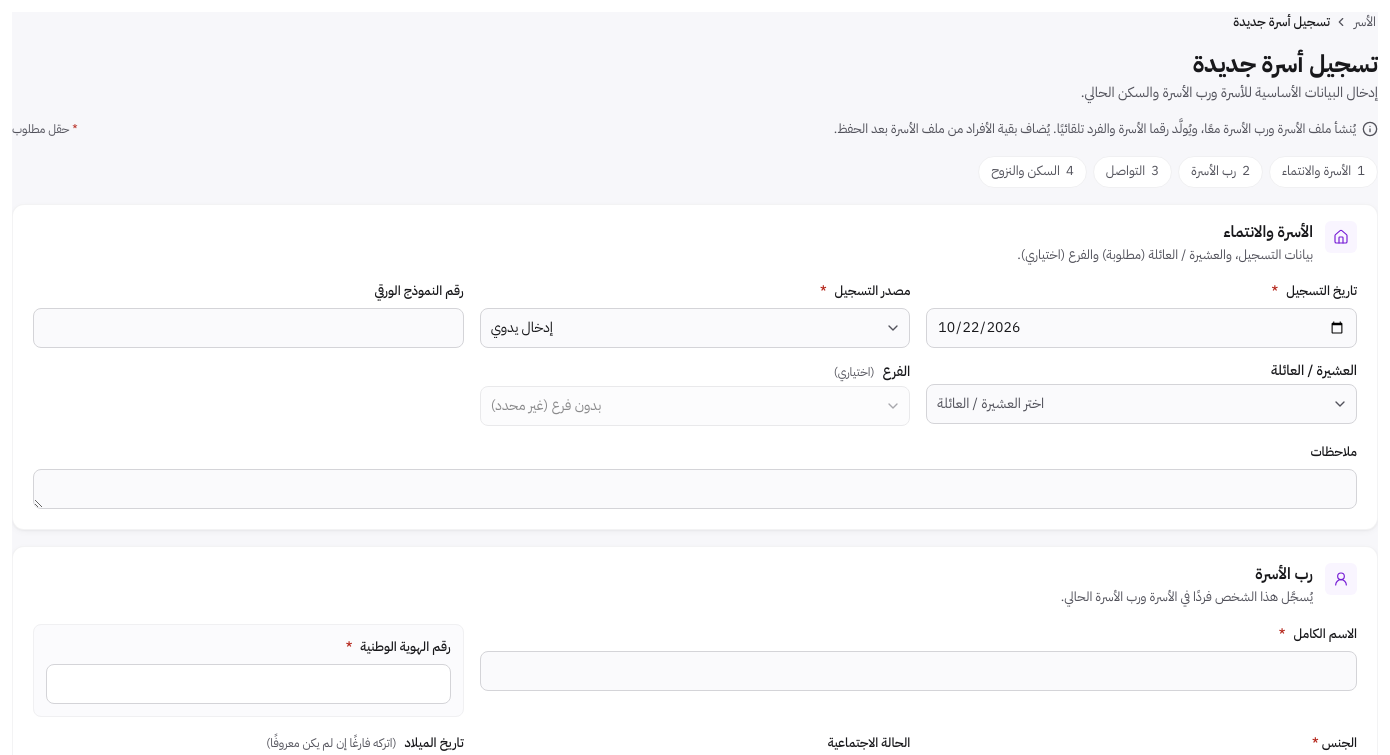
Test: Staff family registration › reports an invalid value locally and never sends it to the pre-check
The width and height of the screenshot is (1390, 755).
Type "40123456" into the field labelled "رقم الهوية الوطنية *" at (248, 684), box [46, 664, 451, 704]
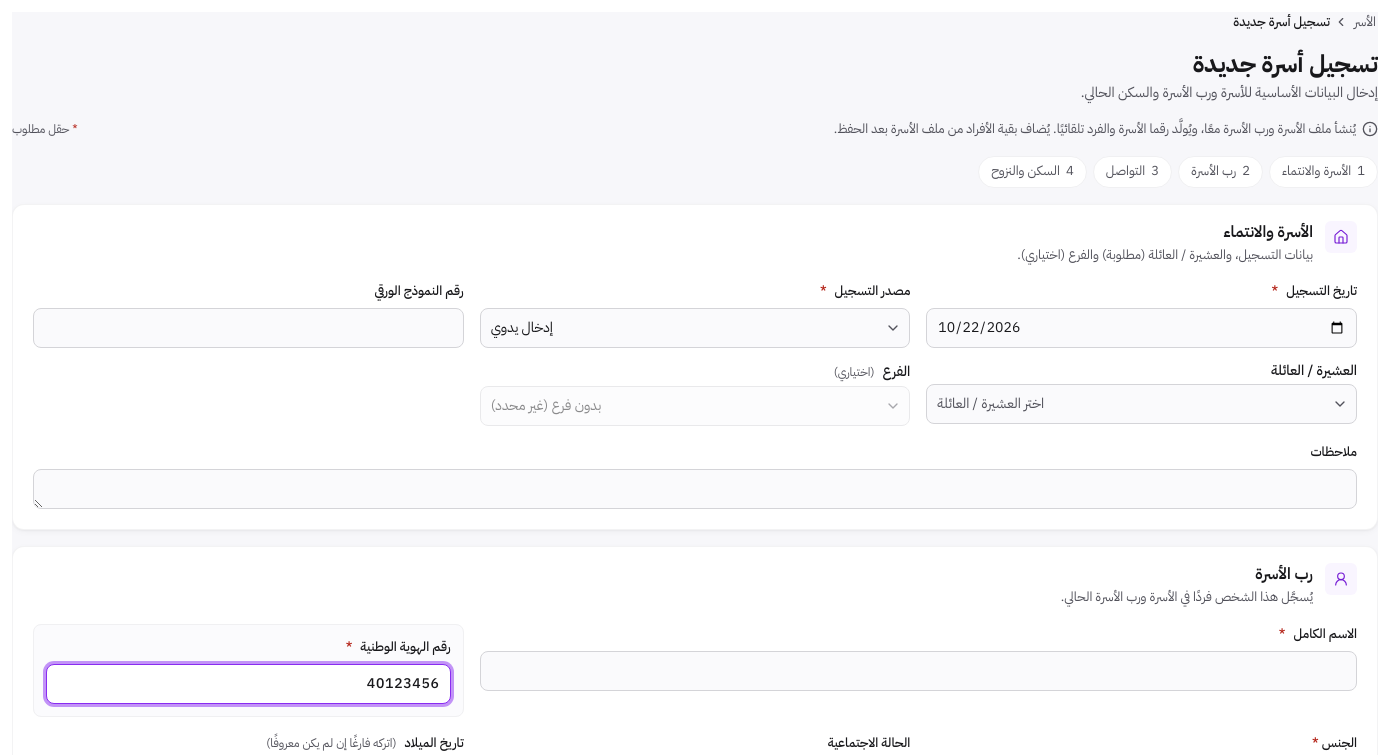
Press Tab
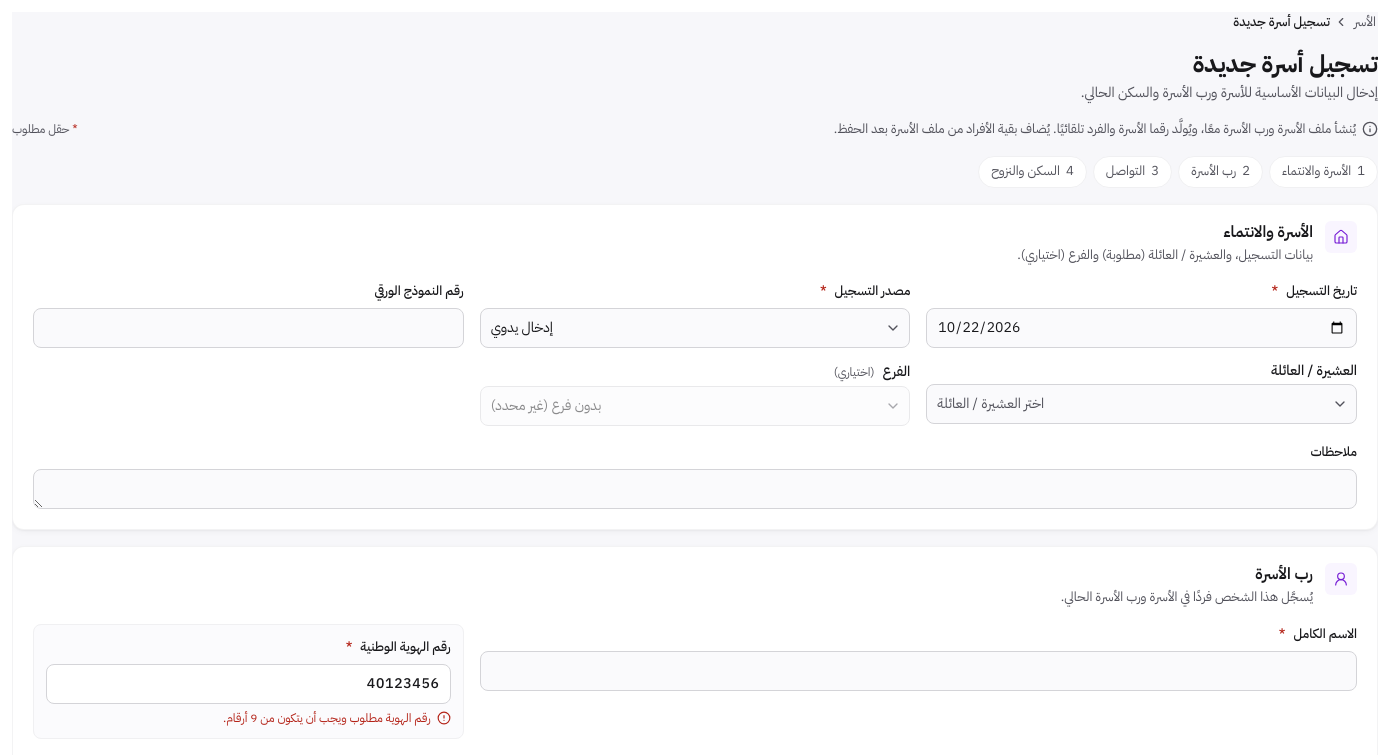
Result: the text "رقم الهوية مطلوب ويجب أن يتكون من 9 أرقام." is shown at [223, 709, 451, 727]
